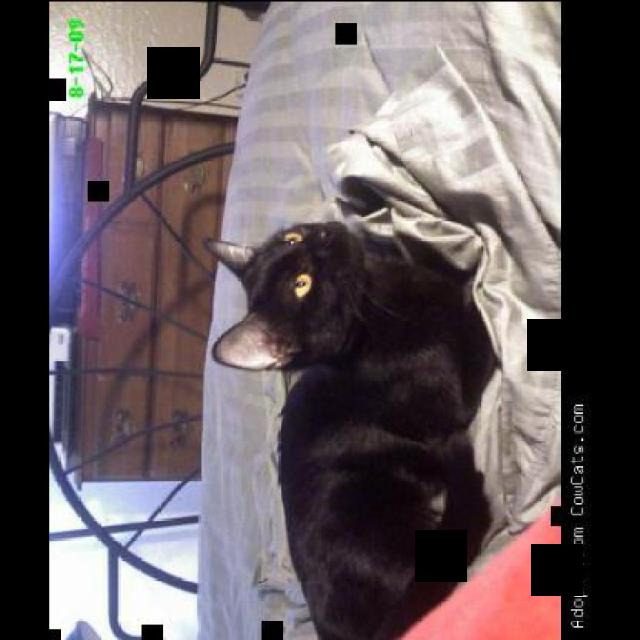unauthorized: (202, 218, 500, 638)
